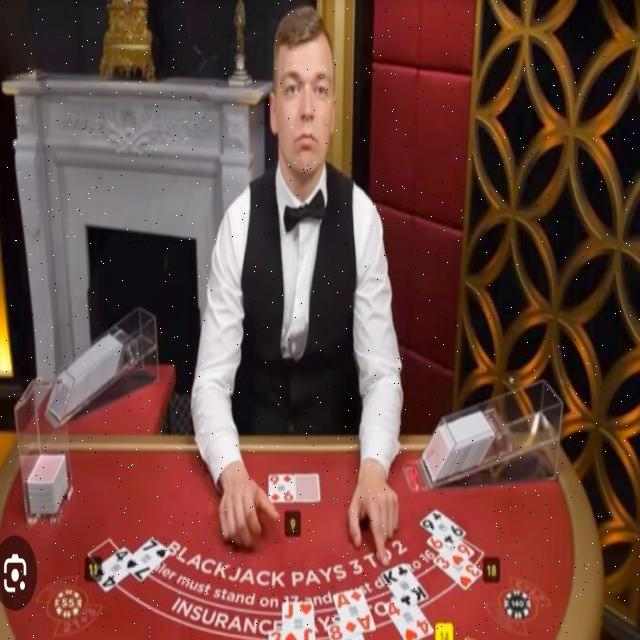Card-3: (433, 554, 481, 588), (268, 629, 282, 639)
Card-4: (384, 597, 434, 639), (92, 545, 133, 592)
Card-6: (427, 536, 474, 566)
Card-7: (123, 537, 169, 581)
Card-8: (327, 621, 364, 639)
Card-9: (420, 508, 467, 547), (268, 473, 295, 503)
Card-A: (333, 590, 375, 635)
Card-J: (283, 603, 315, 639)
Card-K: (381, 563, 429, 606)
